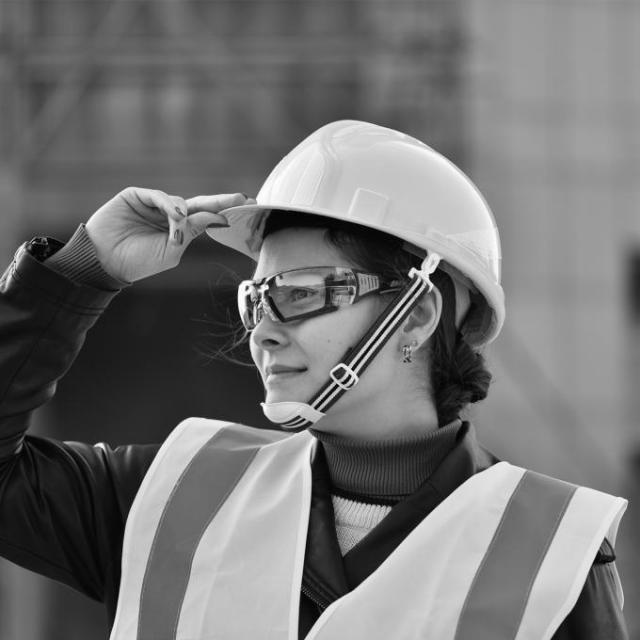safety_helmet: (203, 120, 505, 349)
